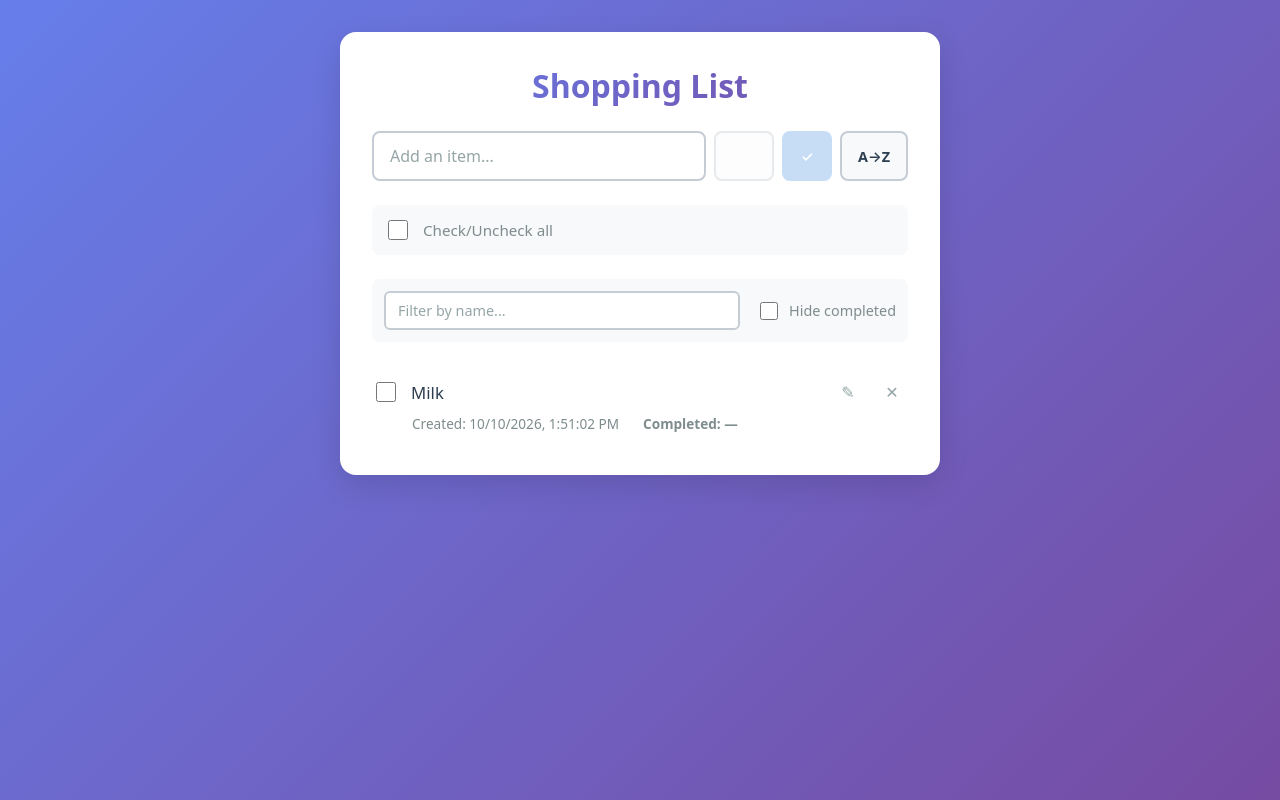
Test: App › shows a toast when toggling an item fails
What coordinates should you click on to do the following:
click the 3rd checkbox
I would click on:
 (386, 392)
Its box is [376,382,396,402].
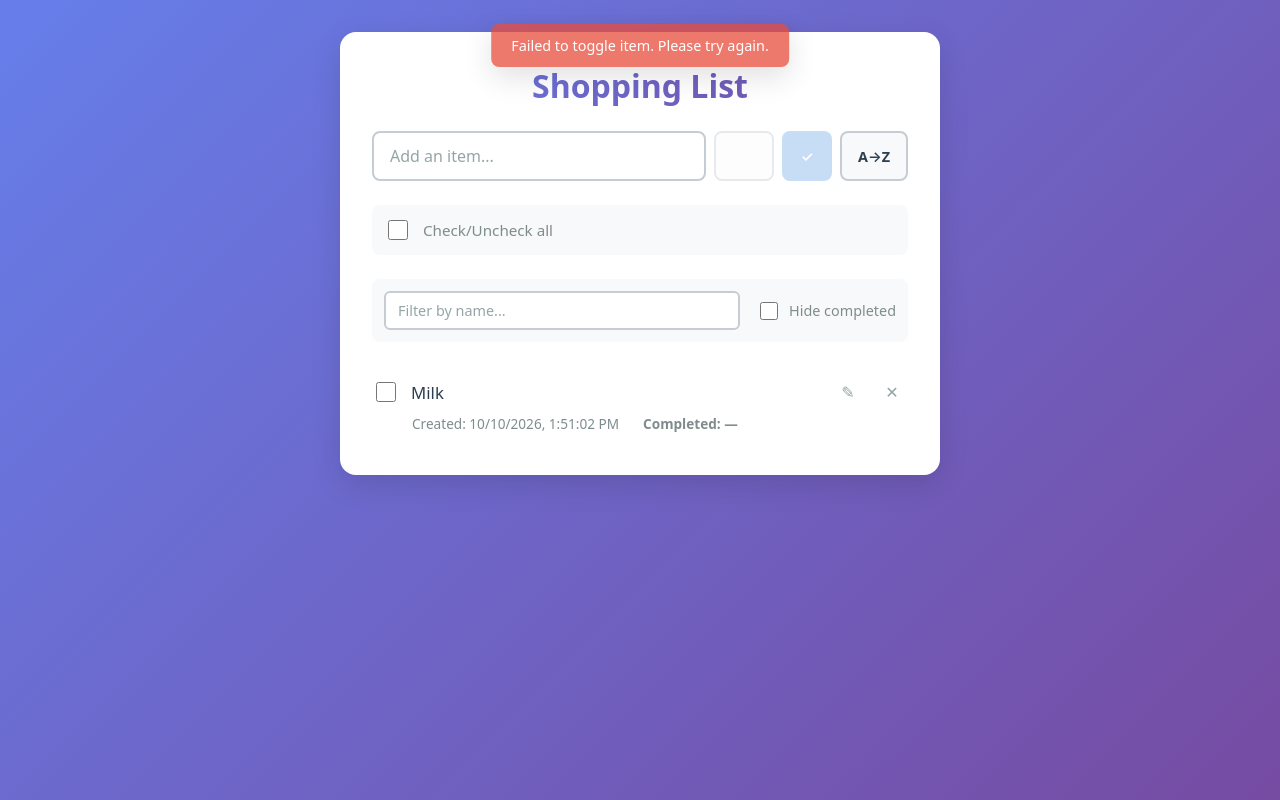
Expected: the text "Failed to toggle item. Please try again." is shown, [491,24,789,67]
